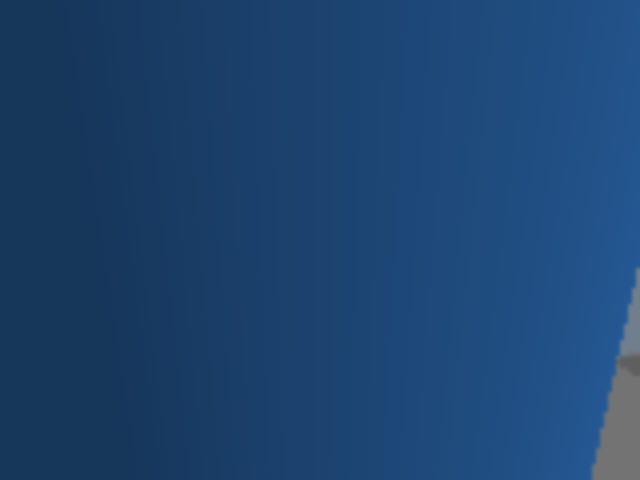person: (0, 0, 108, 172)
traffic_light: (197, 75, 283, 307)
